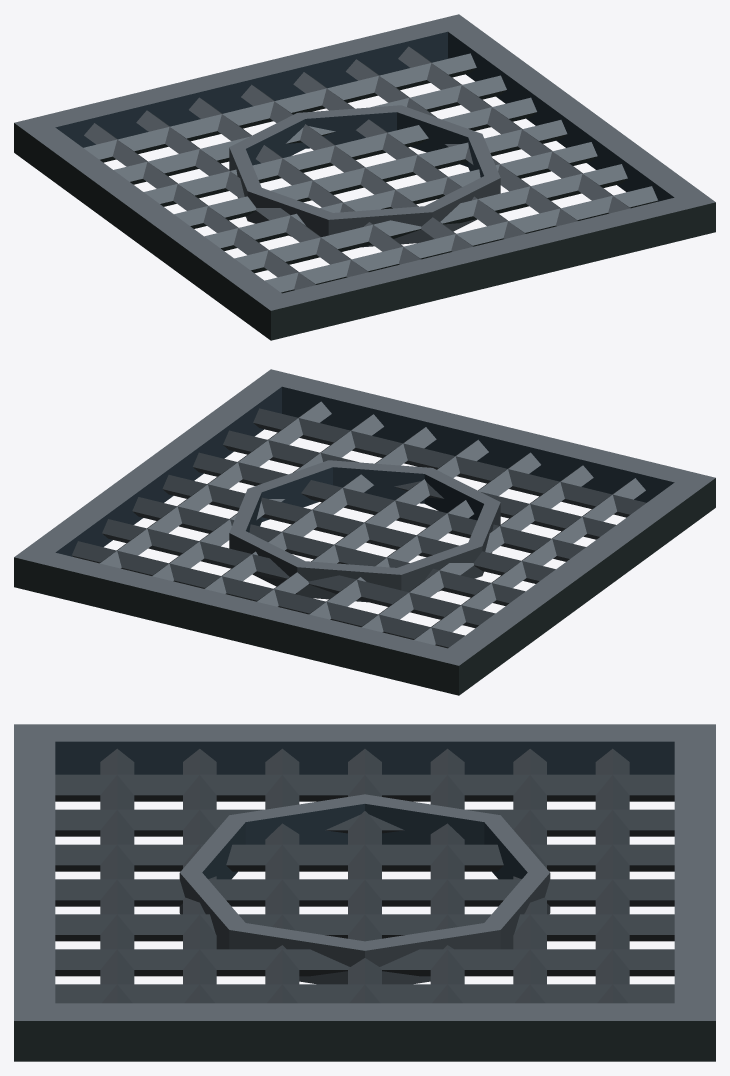
File: grate_floor.fbx
3 views of the same model, one above another, from view 1: azimuth 30°, elevation 25°; view 2: azimuth 150°, elevation 25°; view 3: azimuth 270°, elevation 25° (orthographic). The views are drawn at different scales.
Parts seen in each view (by area): view 1: grate_floor; view 2: grate_floor; view 3: grate_floor.
Boxes of the visible parts, x1=… form: grate_floor: x1=14, y1=14, x2=715, y2=340; grate_floor: x1=14, y1=369, x2=715, y2=695; grate_floor: x1=14, y1=724, x2=715, y2=1061.
Size of the model in its own units: 425 by 27.26 by 425.
